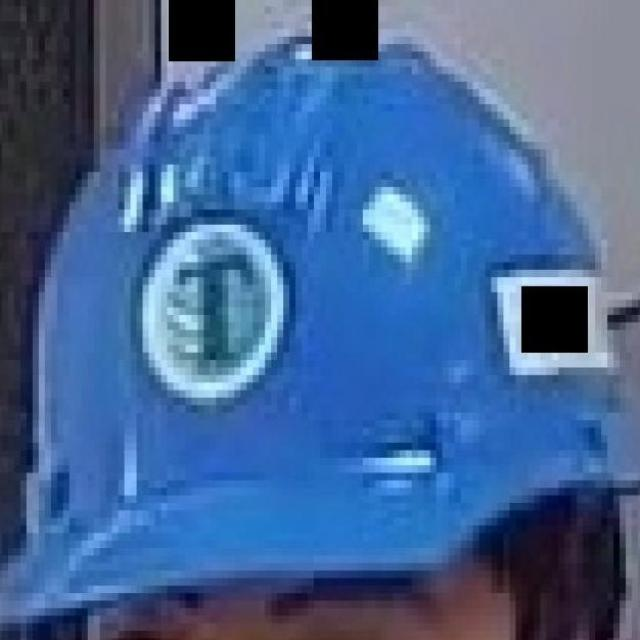blue helmet: (3, 16, 640, 640)
